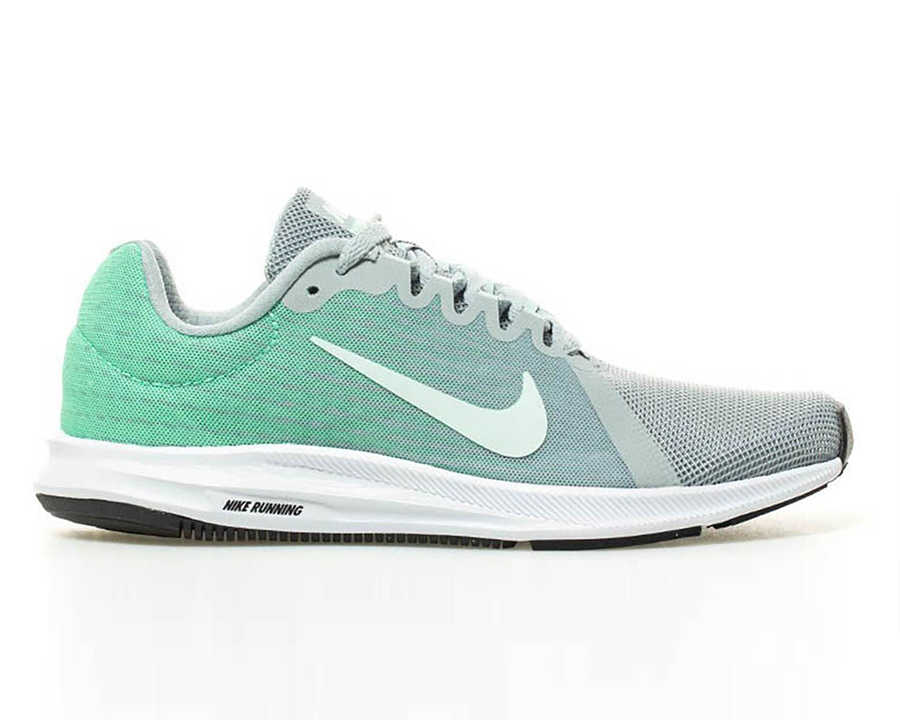nike: (304, 327, 551, 465)
